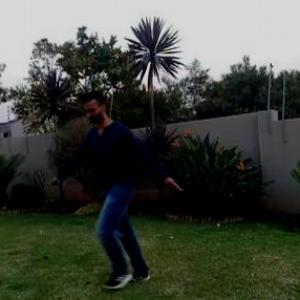land: (50, 86, 180, 291)
